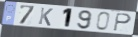0: (95, 11, 113, 32)
1: (61, 8, 73, 30)
7: (19, 5, 36, 26)
9: (76, 10, 93, 31)
K: (38, 7, 55, 27)
P: (113, 12, 133, 32)
